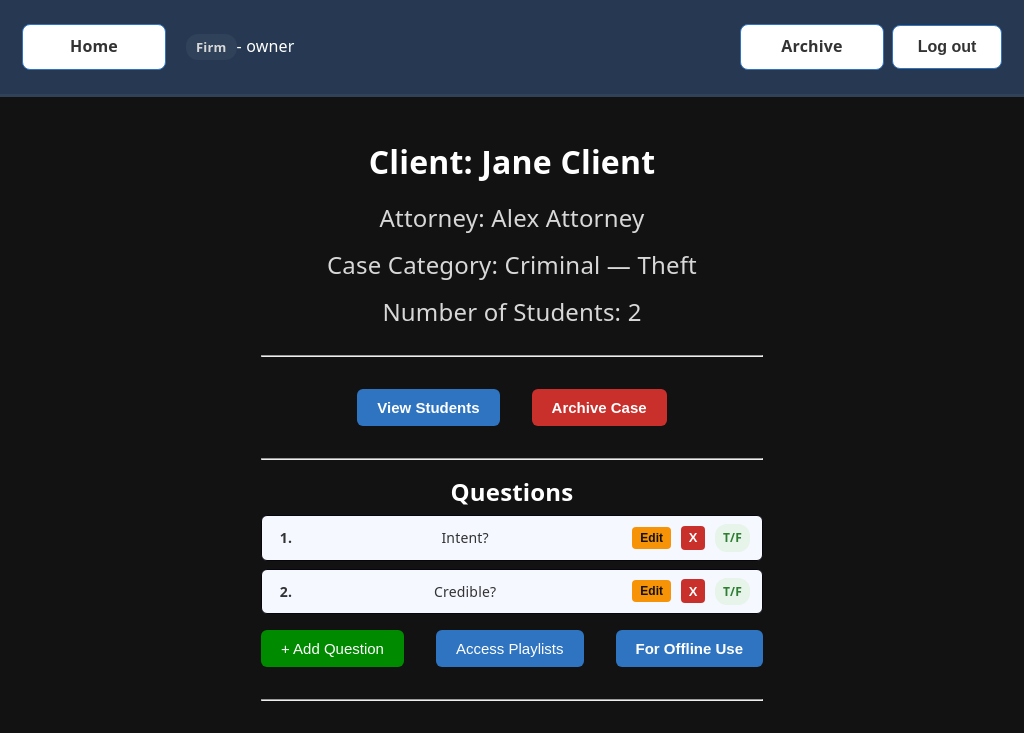
Test case: CaseScreen archiving › shows the server message when the case is not complete
Step 1. Click the button "Archive Case" → (599, 408), box x1=532 y1=389 x2=667 y2=426
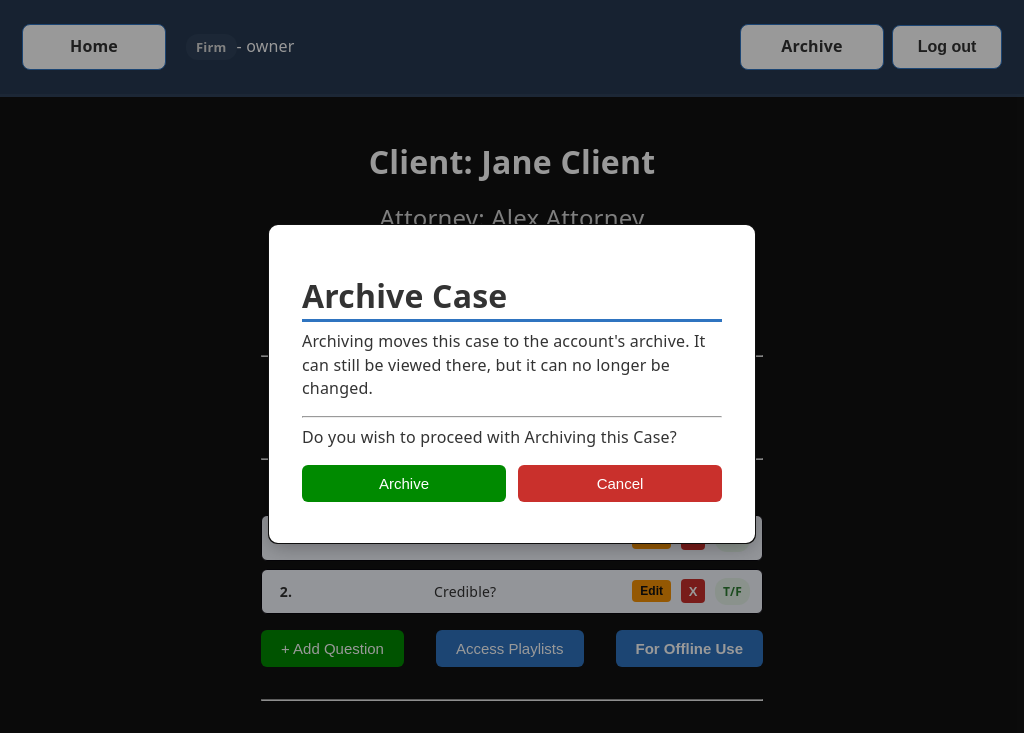
Step 2. Click the button "Archive" → (404, 484), box x1=302 y1=465 x2=506 y2=502
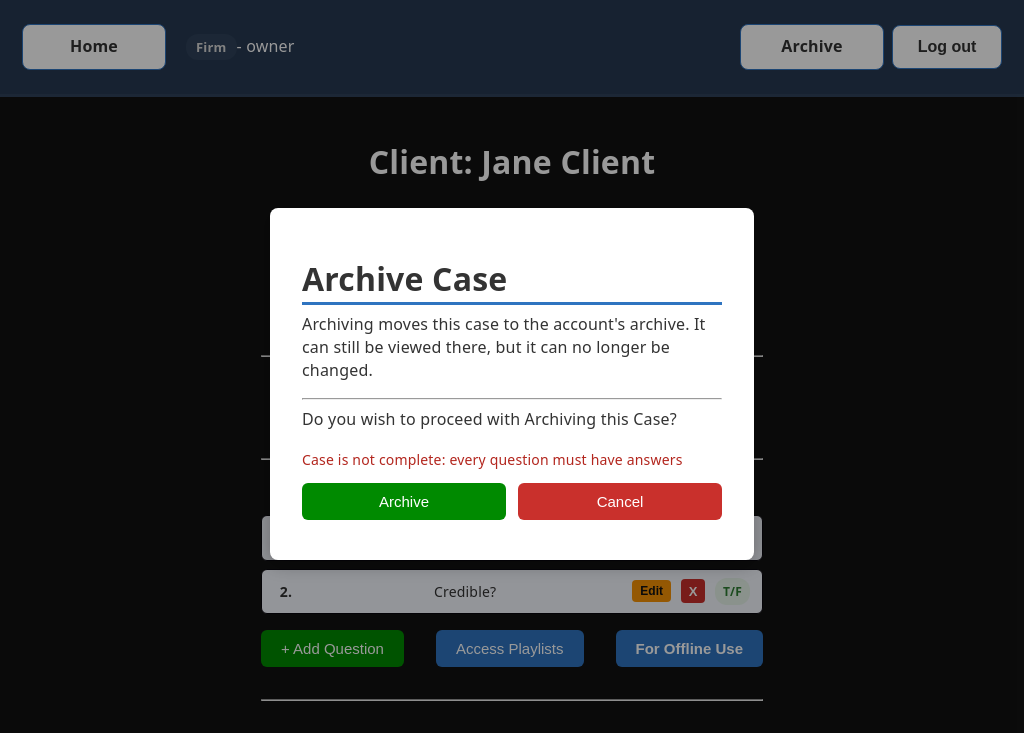
expect the text "Case is not complete: every question must have answers" is shown: met, box x1=302 y1=448 x2=722 y2=471
